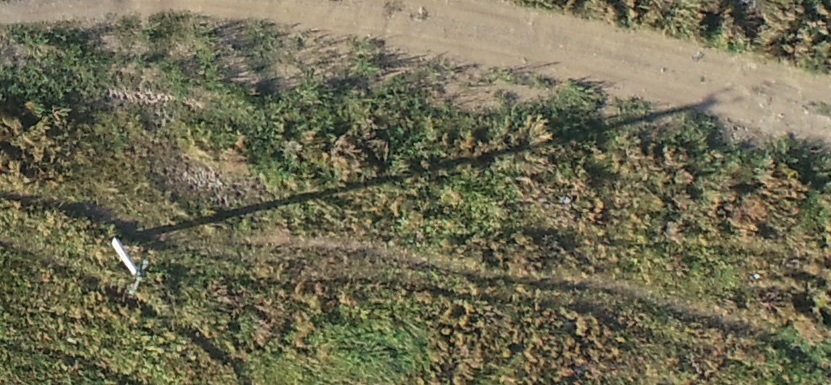opora: (111, 216, 205, 299)
